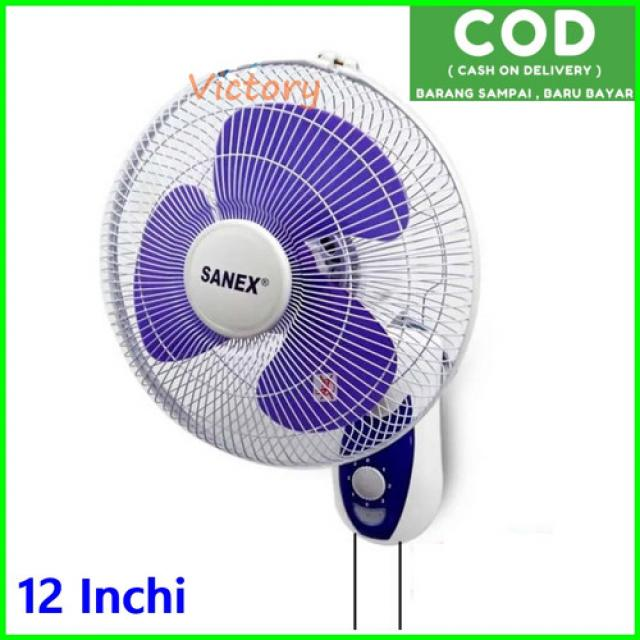fan: (73, 42, 490, 635)
